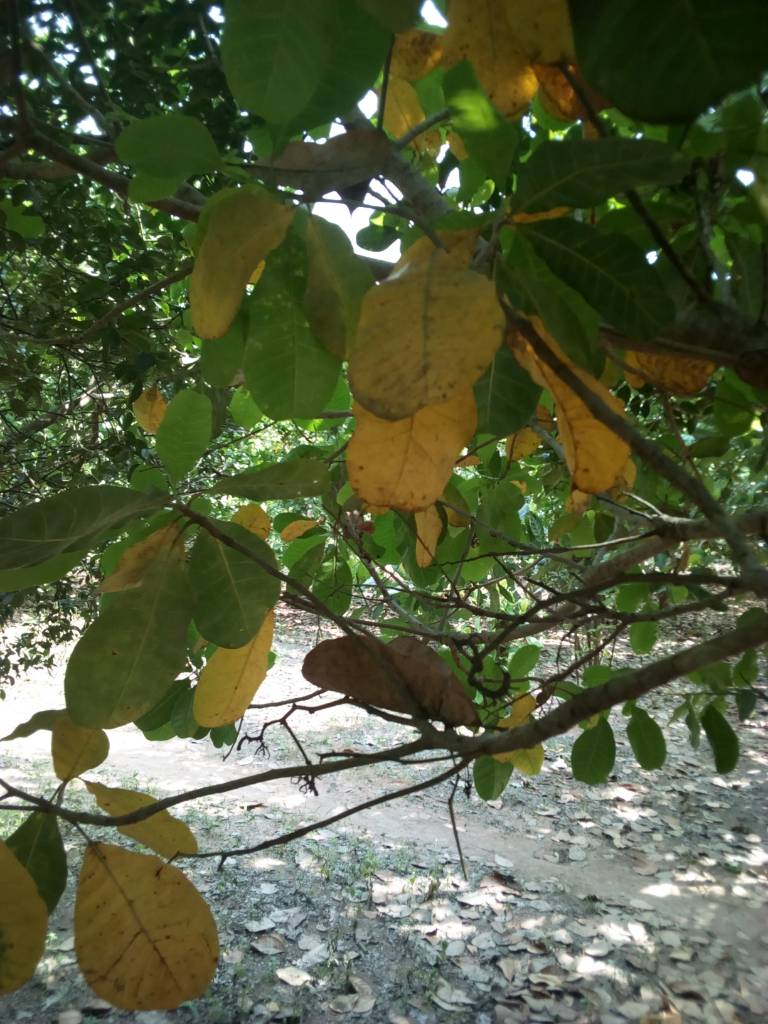Bactériose: (75, 830, 222, 1010), (344, 258, 505, 422)
